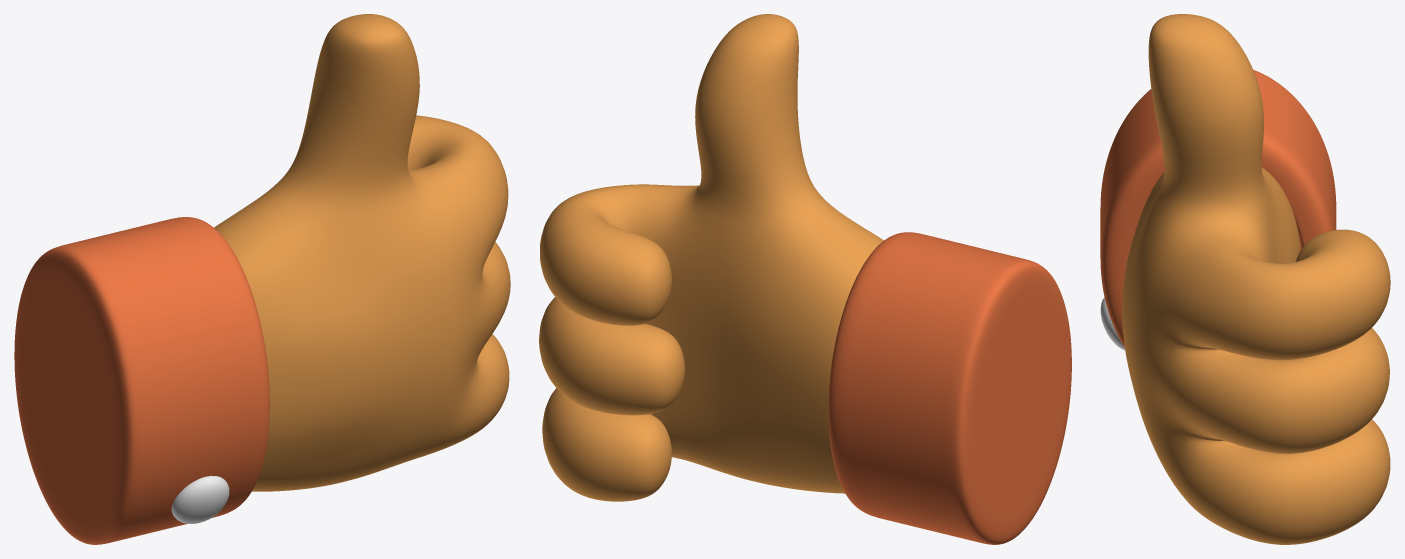
Rendered from thumb-up.glb.
3 renders of one model, left to right at view 1: azimuth 30°, elevation 25°; view 2: azimuth 150°, elevation 25°; view 3: azimuth 270°, elevation 25°, orthographic. The views are drawn at different scales.
Visible parts, largest first — view 1: thumnb up; view 2: thumnb up; view 3: thumnb up.
Boxes of the visible parts, x1,y1,x2,y2 form: thumnb up: [14, 14, 510, 544]; thumnb up: [539, 14, 1071, 544]; thumnb up: [1100, 14, 1390, 544].
Size of the model in its own units: 1.88 by 1.81 by 1.04.
